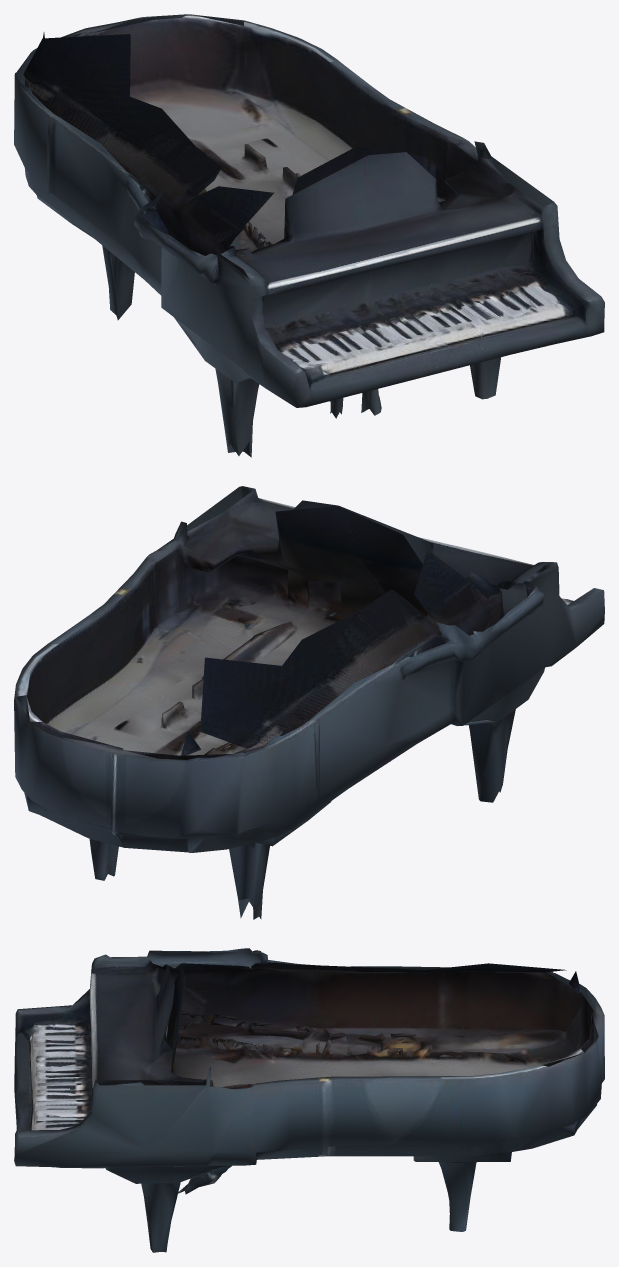
The model's file is piano-body.glb.
The picture shows the model from 3 angles, top to bottom: view 1: azimuth 30°, elevation 25°; view 2: azimuth 150°, elevation 25°; view 3: azimuth 270°, elevation 25°; orthographic projection. The views are drawn at different scales.
Visible parts, largest first — view 1: piano-body; view 2: piano-body; view 3: piano-body.
Boxes of the visible parts, x1,y1,x2,y2 form: piano-body: (14,14,604,457); piano-body: (14,486,604,919); piano-body: (14,948,604,1252).
Size of the model in its own units: 0.5456 by 0.428 by 1.
1 material, 1 textured.
